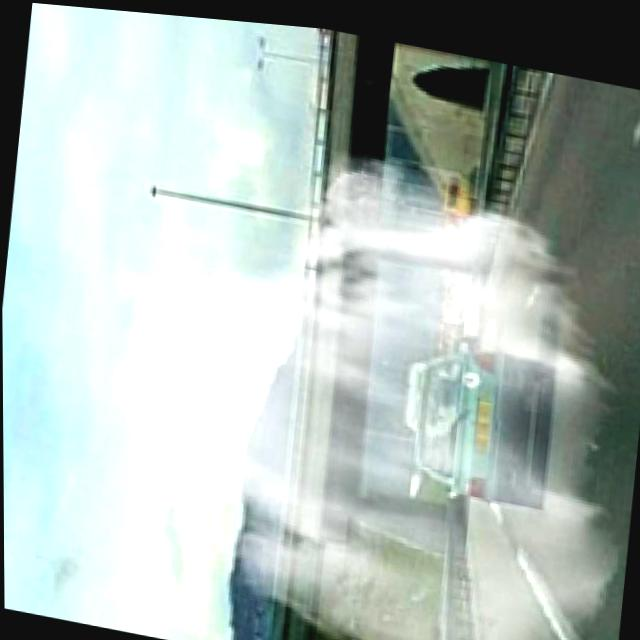Smoke: (69, 95, 640, 640)
